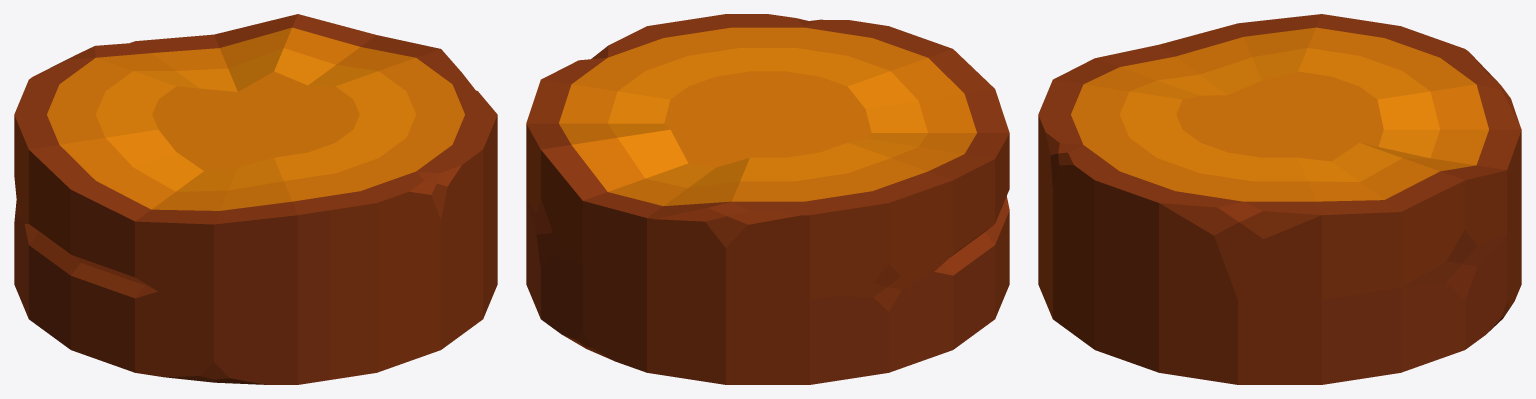
File: Tree log_7.fbx
The picture shows the model from 3 angles, left to right: view 1: azimuth 30°, elevation 25°; view 2: azimuth 150°, elevation 25°; view 3: azimuth 270°, elevation 25°; orthographic projection.
Visible parts, largest first — view 1: Circle.006; view 2: Circle.006; view 3: Circle.006.
Part boxes in pixels (x1,y1,x2,y2): Circle.006: (14,14,497,384); Circle.006: (526,14,1009,384); Circle.006: (1038,14,1521,384).
Bounding box in the file's own units: 23.2 × 9.13 × 23.56.
